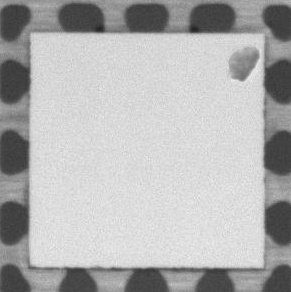DIE_INK: (222, 42, 262, 86)
